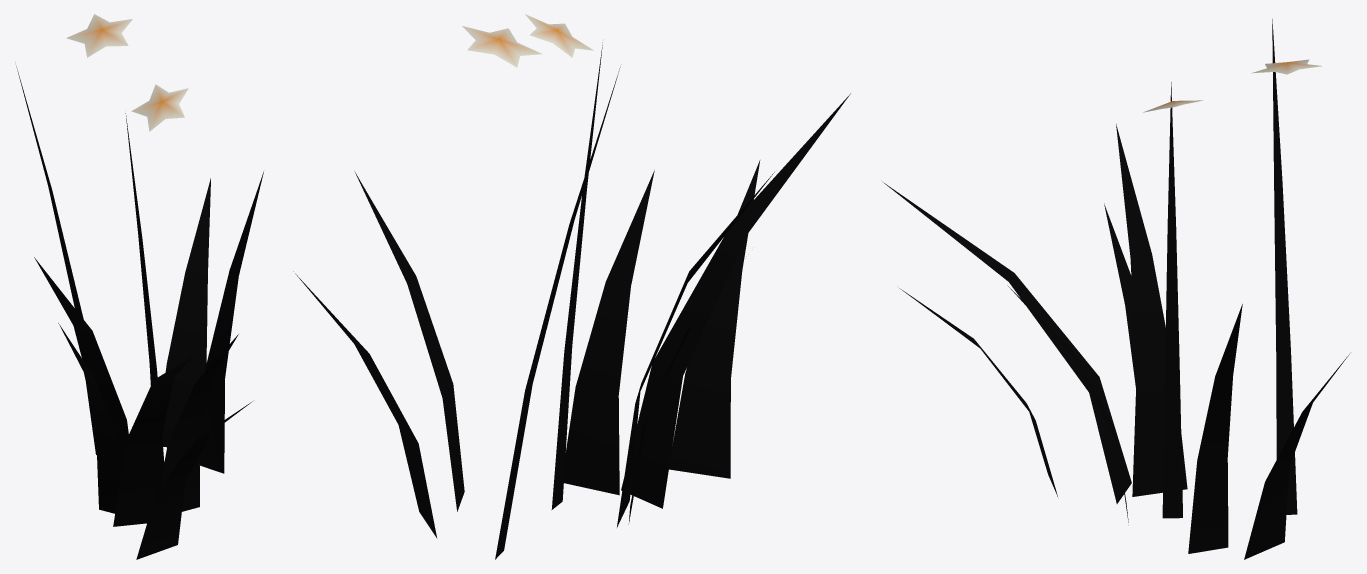
The model's file is SM_GrassFlowers.fbx.
The picture shows the model from 3 angles, left to right: view 1: azimuth 30°, elevation 25°; view 2: azimuth 150°, elevation 25°; view 3: azimuth 270°, elevation 25°; orthographic projection. The views are drawn at different scales.
Visible parts, largest first — view 1: SM_GrassFlowers; view 2: SM_GrassFlowers; view 3: SM_GrassFlowers.
Part boxes in pixels (box(x1,y1,x2,y2)): SM_GrassFlowers: box(16, 14, 263, 559); SM_GrassFlowers: box(293, 14, 850, 559); SM_GrassFlowers: box(883, 19, 1349, 559).
Size of the model in its own units: 0.7058 by 1 by 0.9376.
